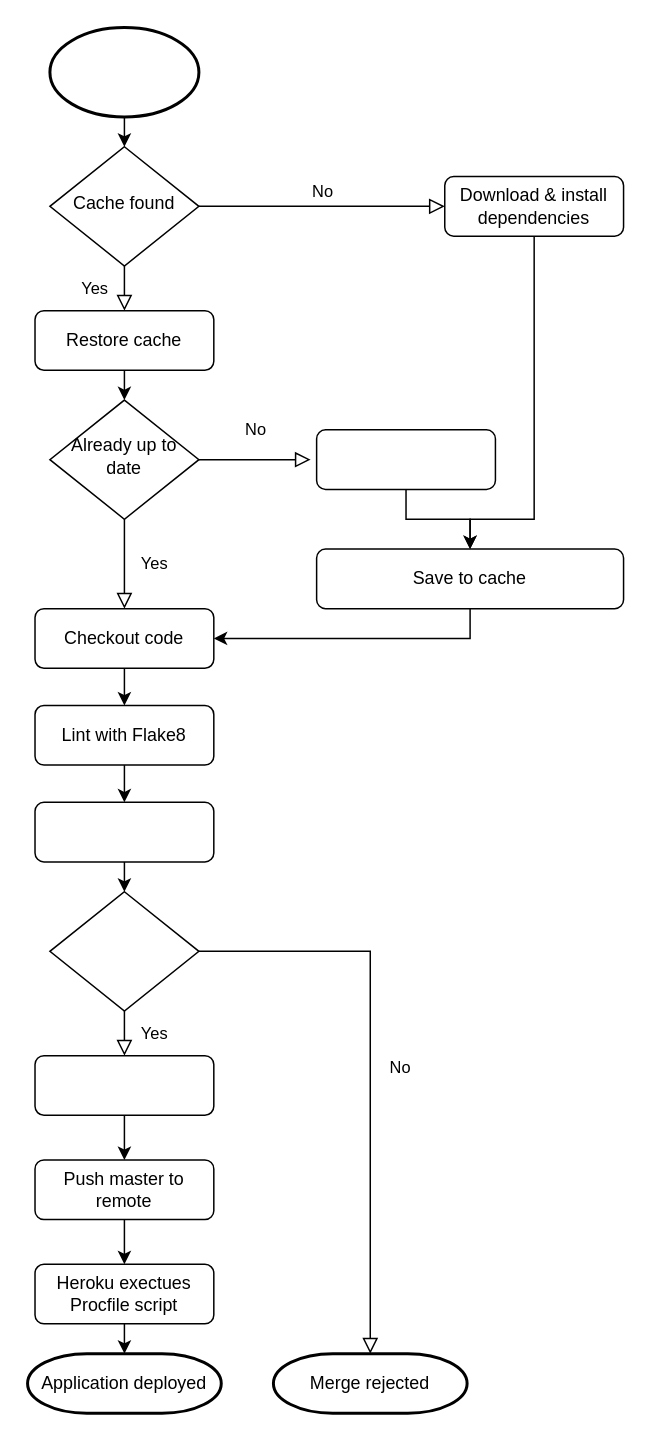
This 650x1439 diagram has some shape labels left out. The centre of each missing label's shape, as x and y in pixels:
"All tests passed" belongs at [123,950].
"Download & install updates" belongs at [405,458].
"Review process & merging" belongs at [124,1084].
"Run tests & save test data" belongs at [124,831].
"Set up clean container" belongs at [124,71].
